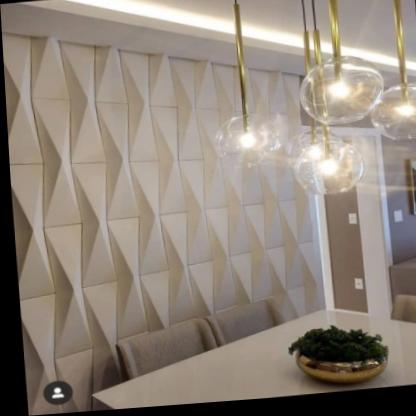Futech tiles: (13, 47, 231, 351)
